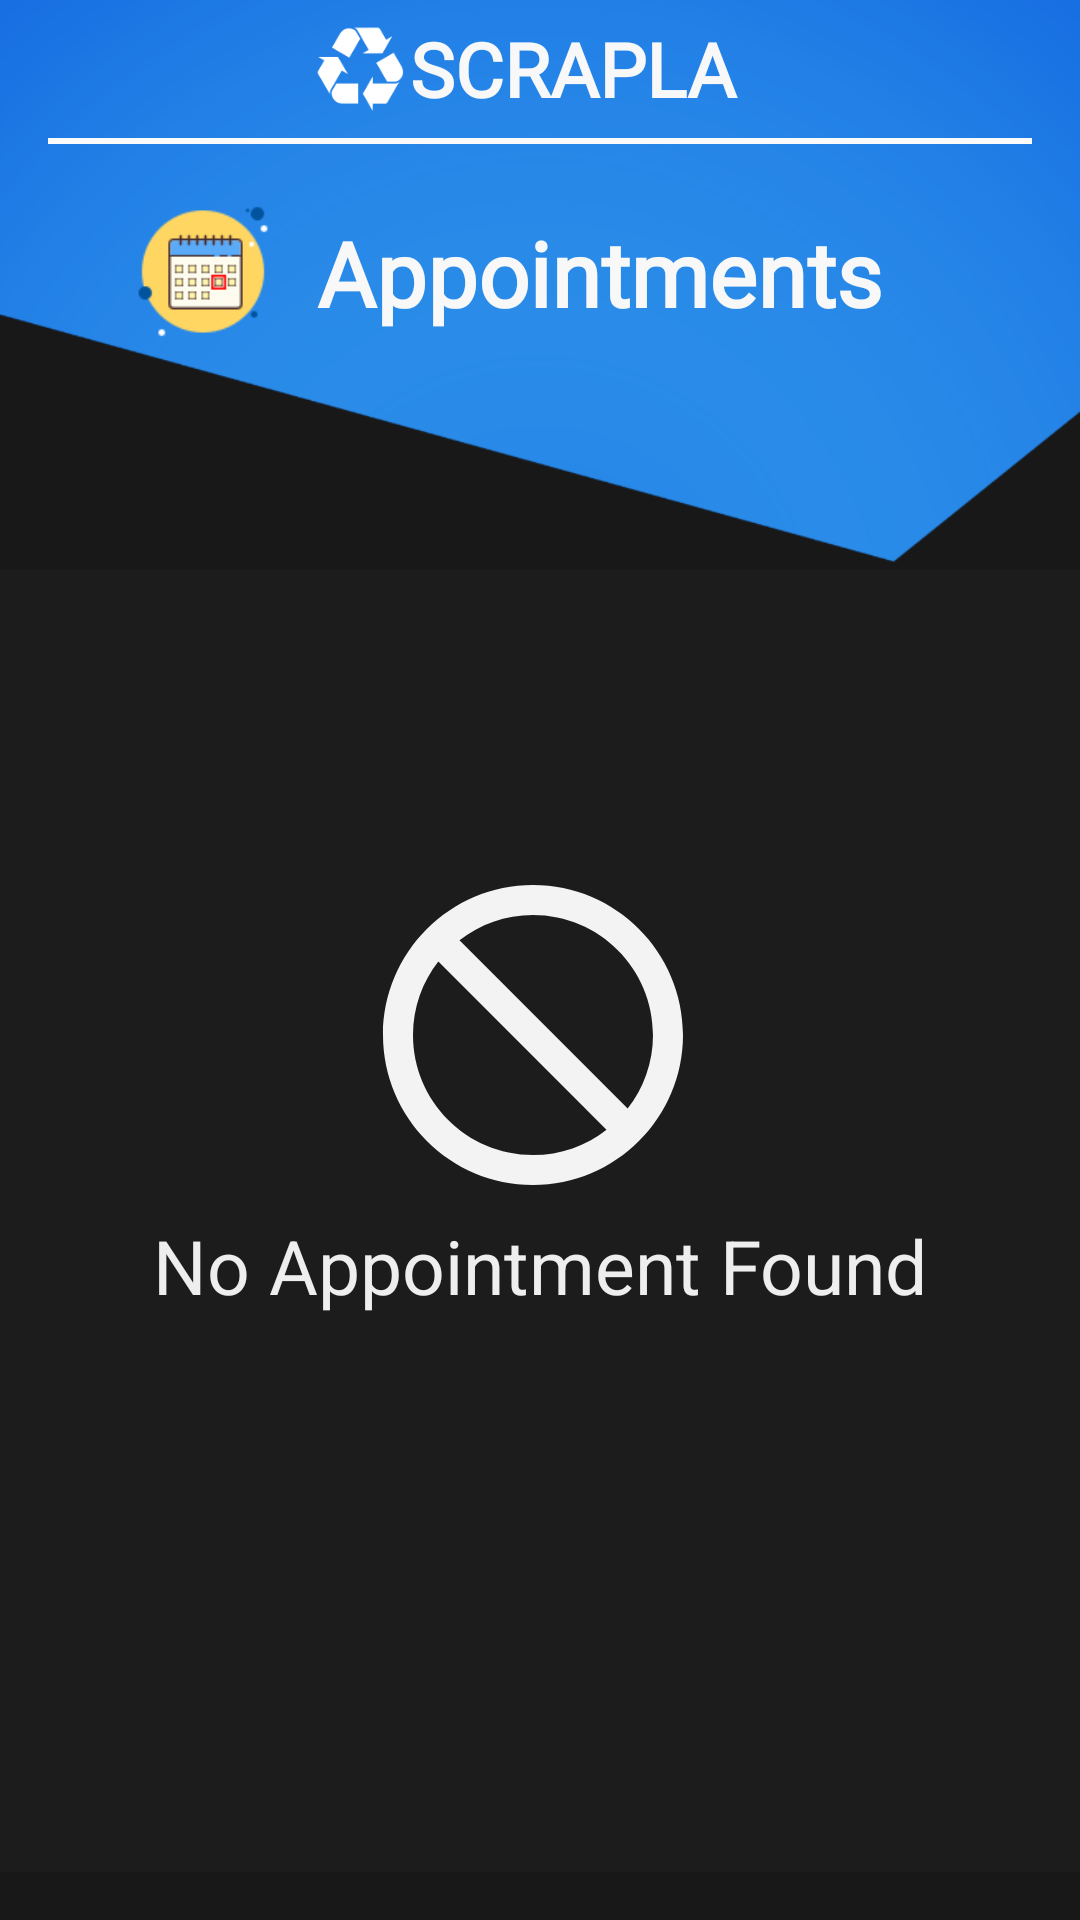

Icon bounding boxes for this 1080 × 1920 phone screenshot, format (x1, y1, x2, y2):
not interested: (383, 885, 683, 1185)
